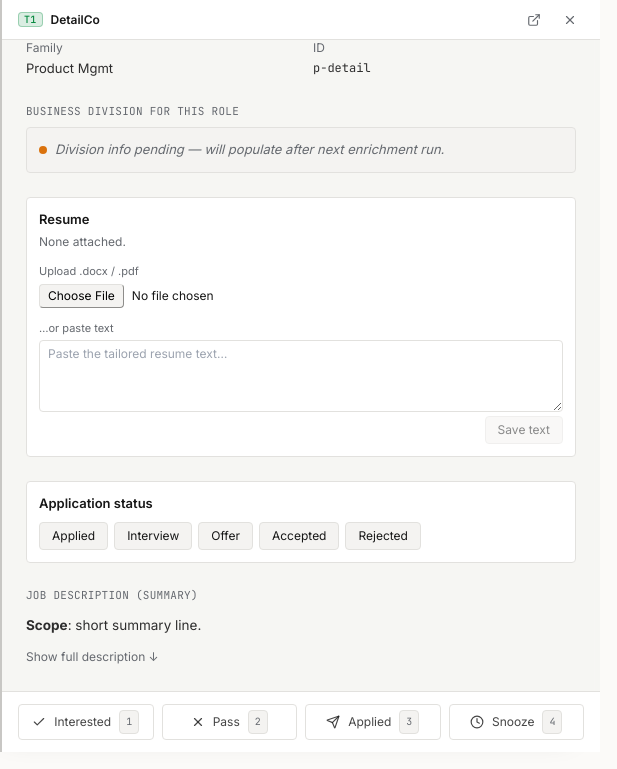
DetailPanel › toggle expands the full JD below the summary
(page scrolled)
Expected: the text "bullet one" is not shown
Click the button "Show full description ↓": (92,657) top-left (26, 648), bottom-right (159, 666)
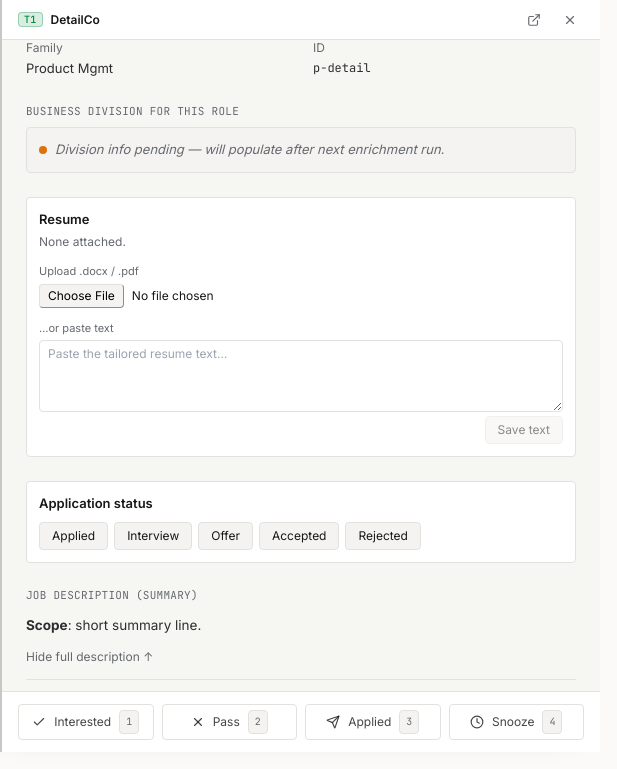
Expected: the button "Hide full description ↑" is shown, top-left (26, 648), bottom-right (153, 666)
